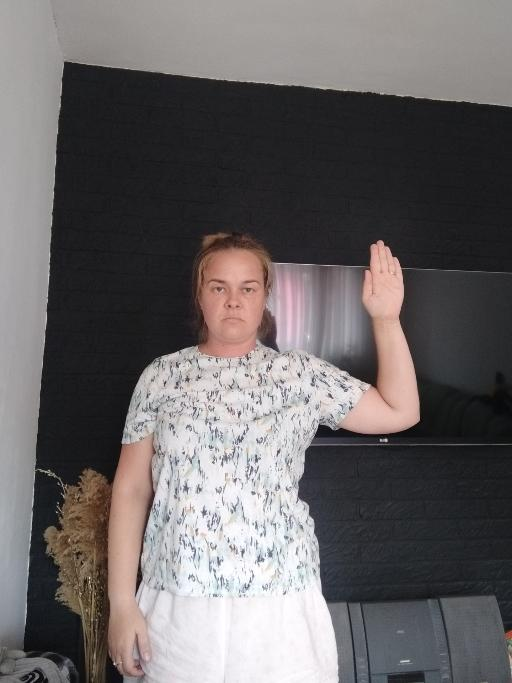no_gesture: (104, 603, 152, 679)
stop: (358, 238, 405, 320)
